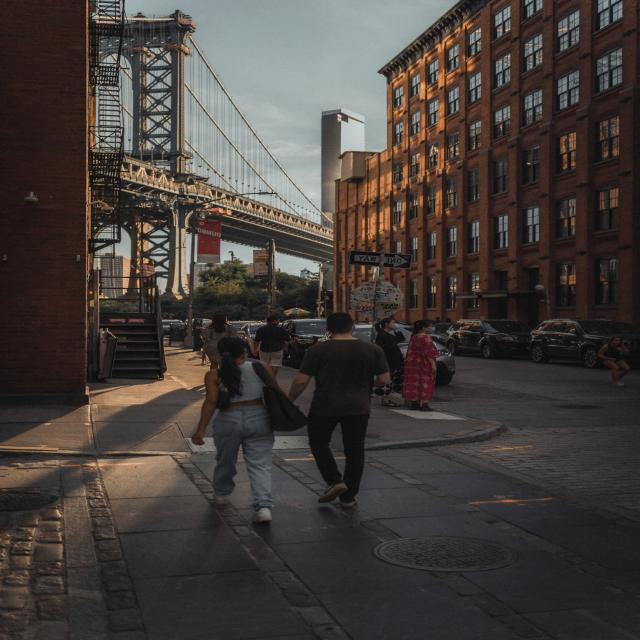adult: (288, 310, 391, 512), (189, 333, 289, 524), (401, 318, 443, 413), (374, 316, 408, 410), (250, 316, 288, 382), (199, 313, 238, 371)
